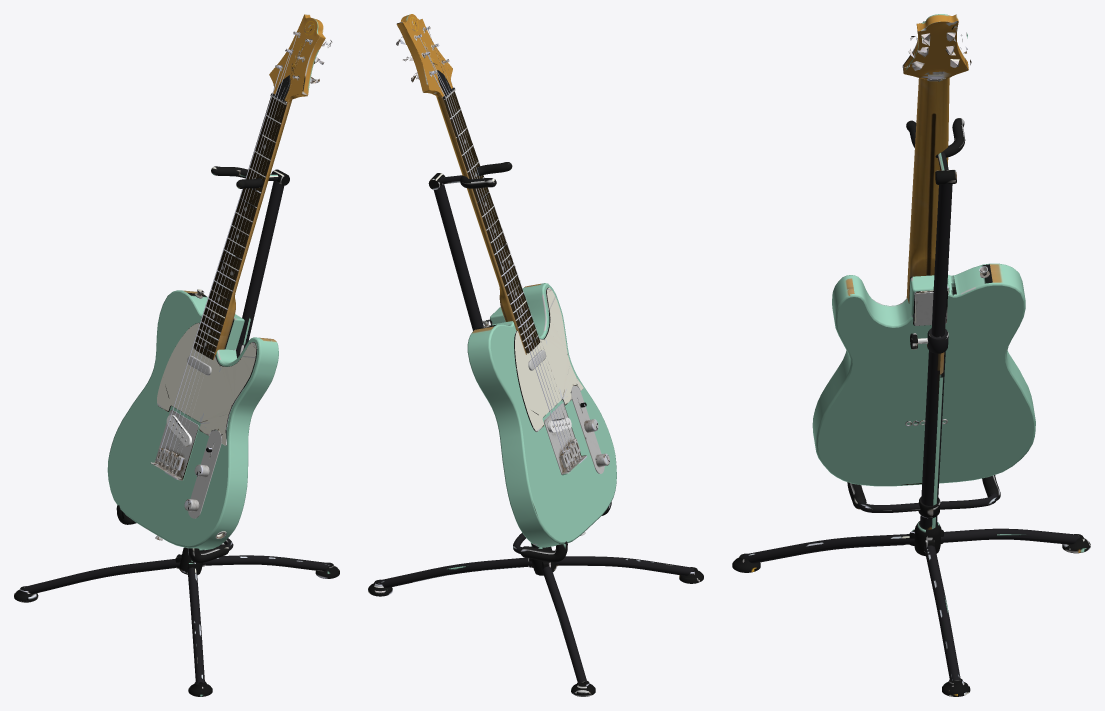
The model's file is telecaster.glb.
3 views of the same model, side by side, from view 1: azimuth 30°, elevation 25°; view 2: azimuth 150°, elevation 25°; view 3: azimuth 270°, elevation 25° (orthographic). The views are drawn at different scales.
Visible parts, largest first — view 1: NEW_telecaster_guitar__mesh, NEW_telecaster_root__mesh; view 2: NEW_telecaster_guitar__mesh, NEW_telecaster_root__mesh; view 3: NEW_telecaster_guitar__mesh, NEW_telecaster_root__mesh.
Boxes of the visible parts, x1,y1,x2,y2 form: NEW_telecaster_guitar__mesh: (107,14,332,549); NEW_telecaster_root__mesh: (14,166,339,696); NEW_telecaster_guitar__mesh: (396,14,616,547); NEW_telecaster_root__mesh: (368,162,703,696); NEW_telecaster_guitar__mesh: (812,14,1035,486); NEW_telecaster_root__mesh: (732,118,1090,696).
Bounding box in the file's own units: 0.5435 × 1.08 × 0.5286.
1 material, 1 textured.
